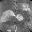people: (3, 9, 15, 17), (0, 16, 11, 23), (16, 14, 24, 22)
